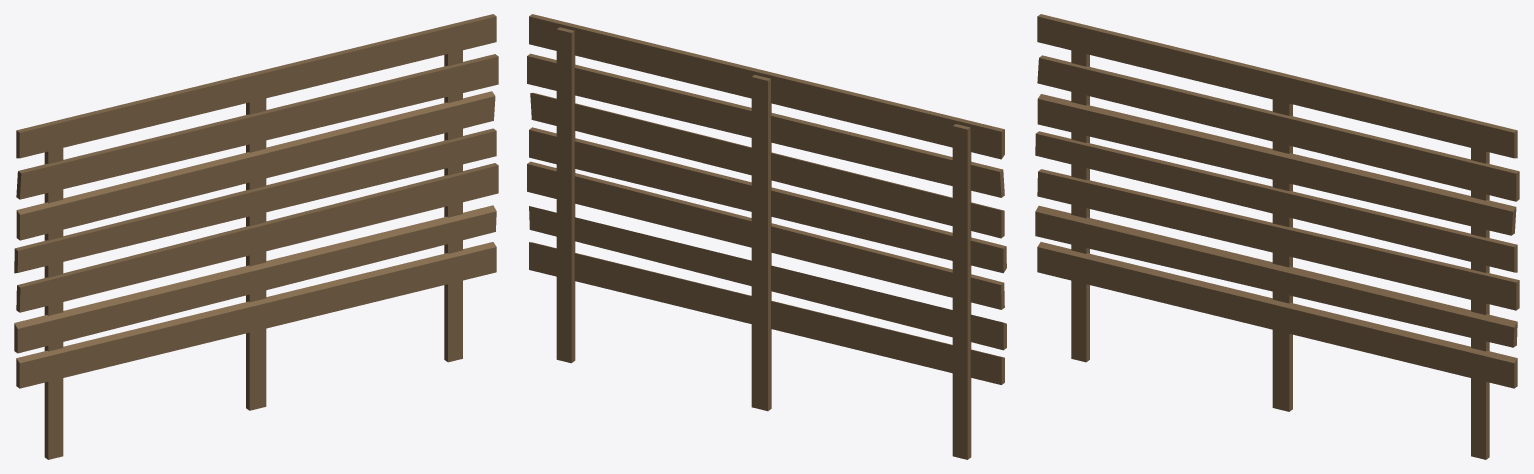
Rendered from SM_Prop_Cafe_Divider_01.obj.
3 views of the same model, side by side, from view 1: azimuth 30°, elevation 25°; view 2: azimuth 150°, elevation 25°; view 3: azimuth 330°, elevation 25° (orthographic).
Parts seen in each view (by area): view 1: SM_Prop_Cafe_Divider_01_0; view 2: SM_Prop_Cafe_Divider_01_0; view 3: SM_Prop_Cafe_Divider_01_0.
Boxes of the visible parts, box(x1,y1,x2,y2) form: SM_Prop_Cafe_Divider_01_0: box(14, 14, 498, 459); SM_Prop_Cafe_Divider_01_0: box(527, 14, 1006, 459); SM_Prop_Cafe_Divider_01_0: box(1035, 14, 1519, 459).
Size of the model in its own units: 2.13 by 1.42 by 0.049.
1 material, 1 textured.
